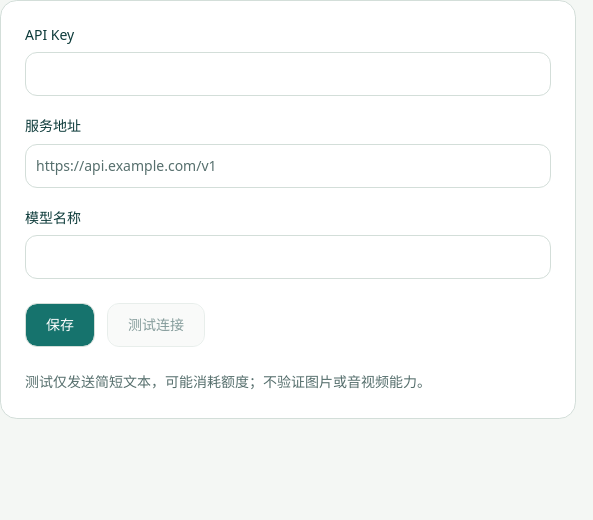
Test: AI settings form › validates initial required fields with nearby accessible errors
Click the button "保存": x=60, y=325 top-left (25, 303), bottom-right (95, 347)
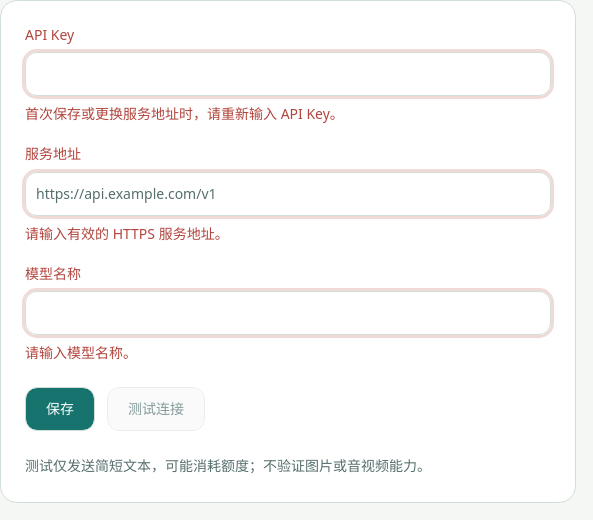
expect the button "测试连接" is disabled: met, box top-left (107, 387), bottom-right (205, 431)
expect the text "请输入有效的 HTTPS 服务地址。" is shown: met, box top-left (25, 224), bottom-right (229, 242)
